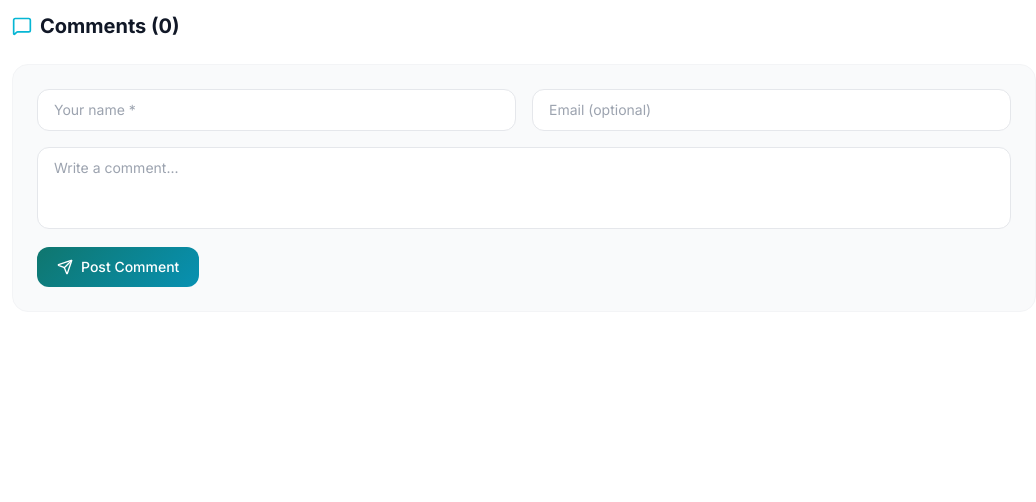
Comments component › submits the form and shows pending moderation notice
Type "Alice" into the field with placeholder "Your name *" at (276, 110), box [37,89,516,131]
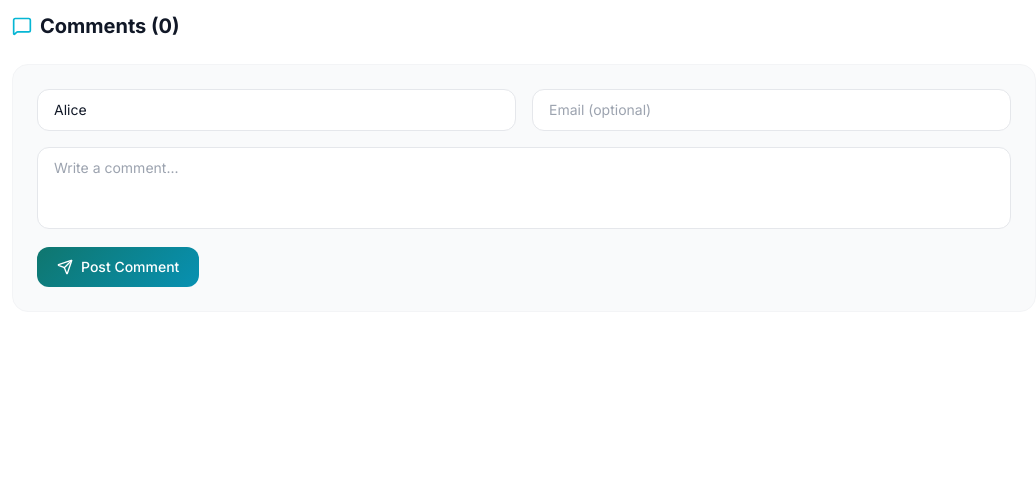
Type "Hello world" into the text box with placeholder "Write a comment..." at (524, 188), box [37,147,1011,229]
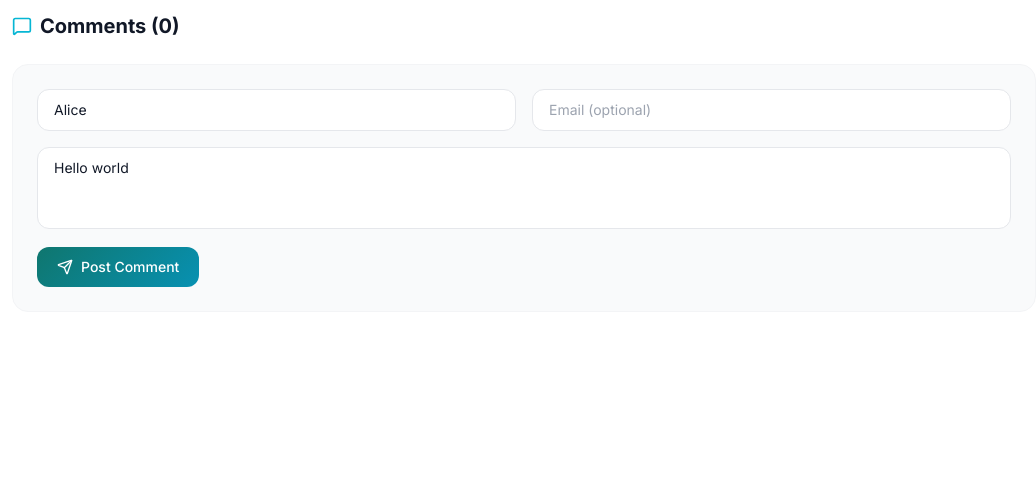
Click the button "Post Comment" at (118, 267), box [37,247,199,287]
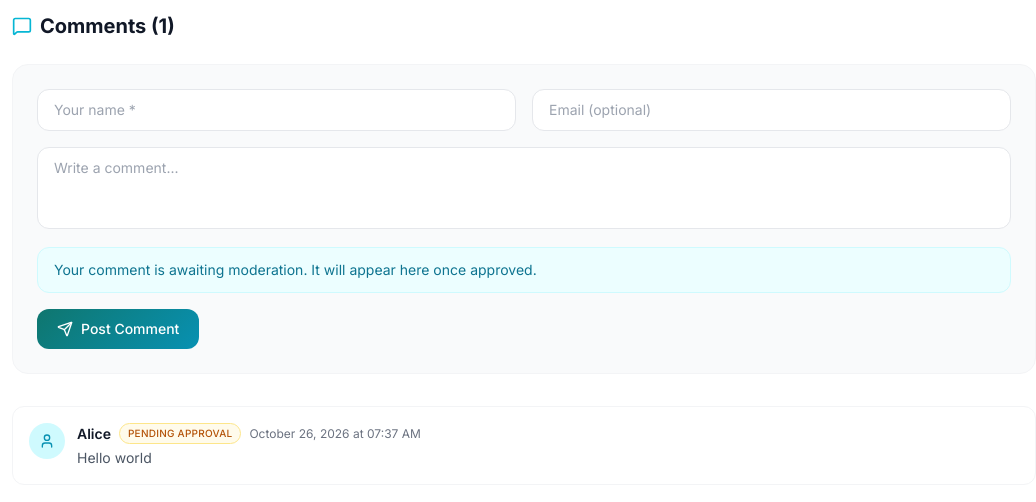
Expected: the text "Your comment is awaiting moderation. It will appear here once approved." is shown, [37,247,1011,293]
Expected: the text "Pending approval" is shown, [119,423,242,444]
Expected: the field with placeholder "Your name *" is empty, [37,89,516,131]
